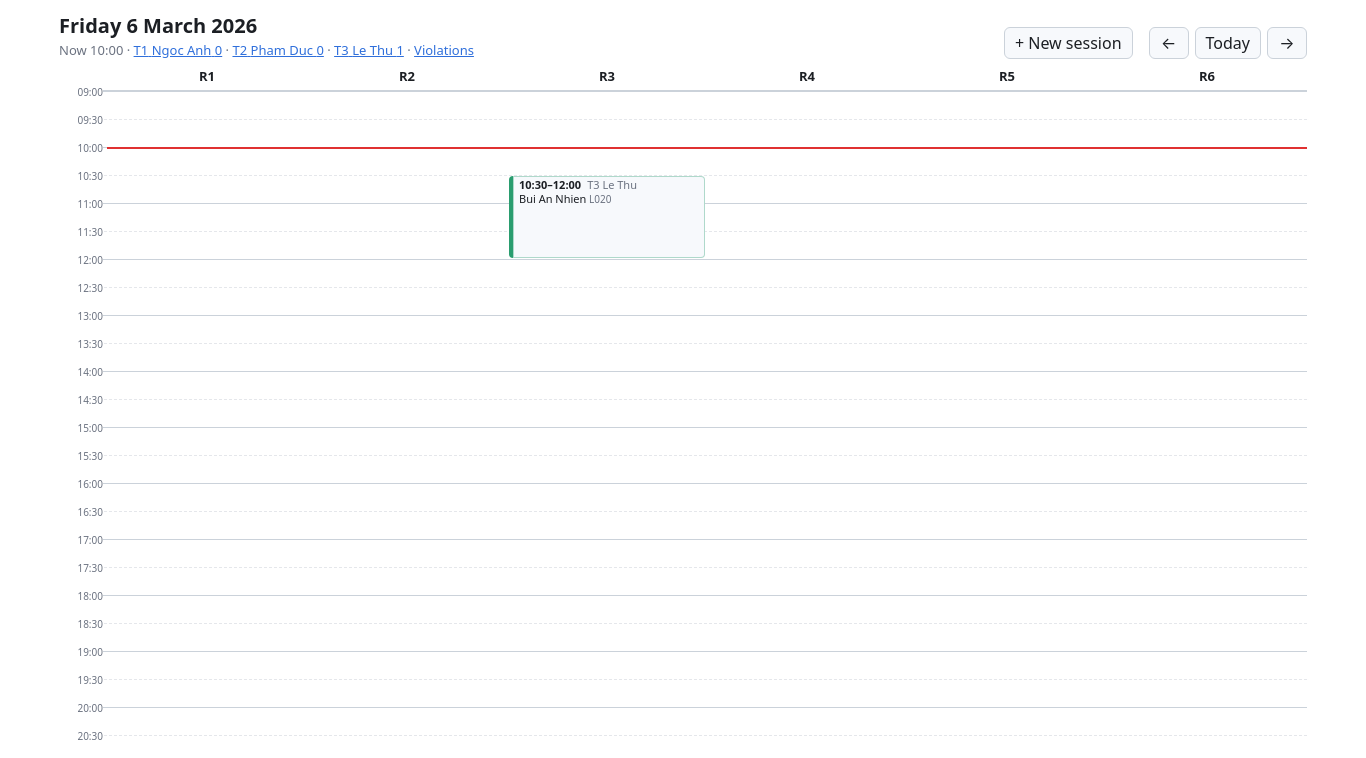
Test: DayPage › after a cancel, reads the day again and shows what the cancel did
The width and height of the screenshot is (1366, 758).
Click the button "10:30–12:00": (550, 185) [519,178,581,192]
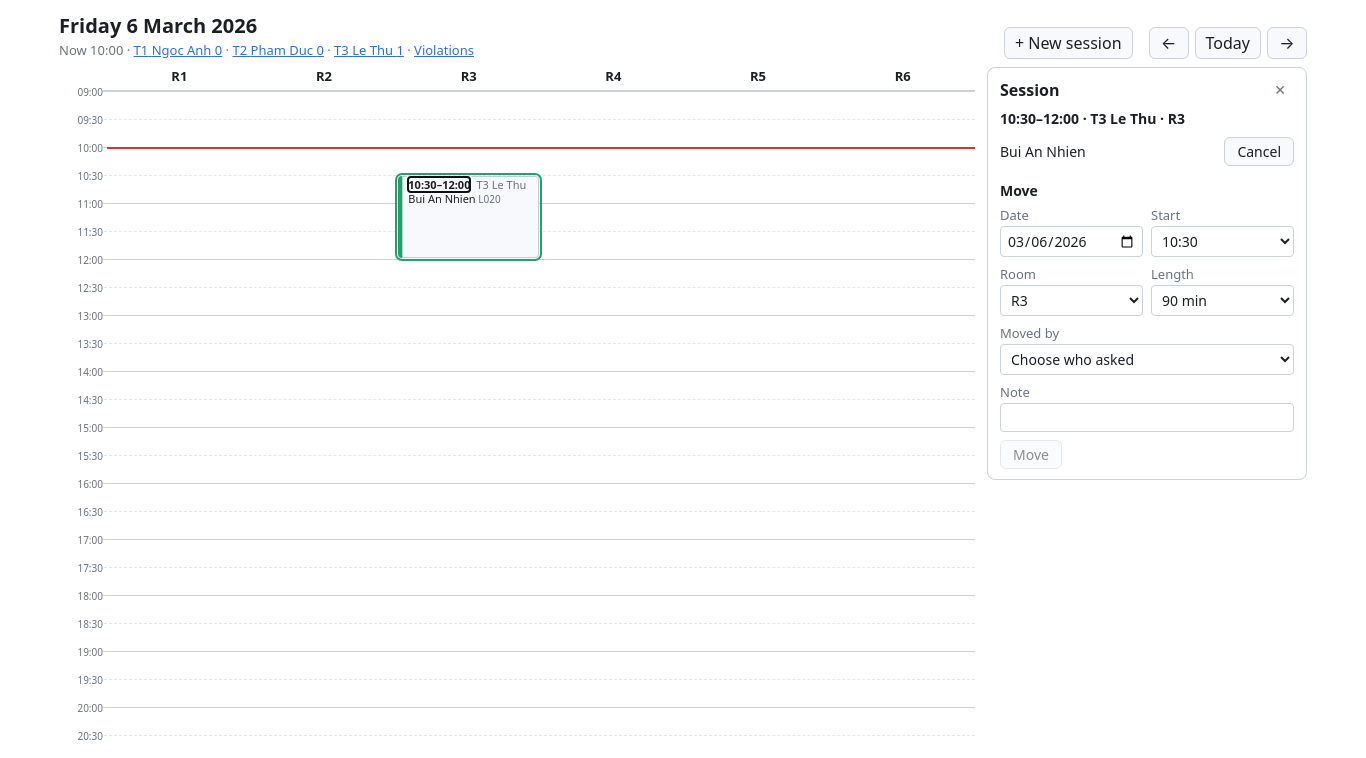
Click the button with aria-label "Cancel Bui An Nhien": (1259, 152) [1224,137,1294,166]
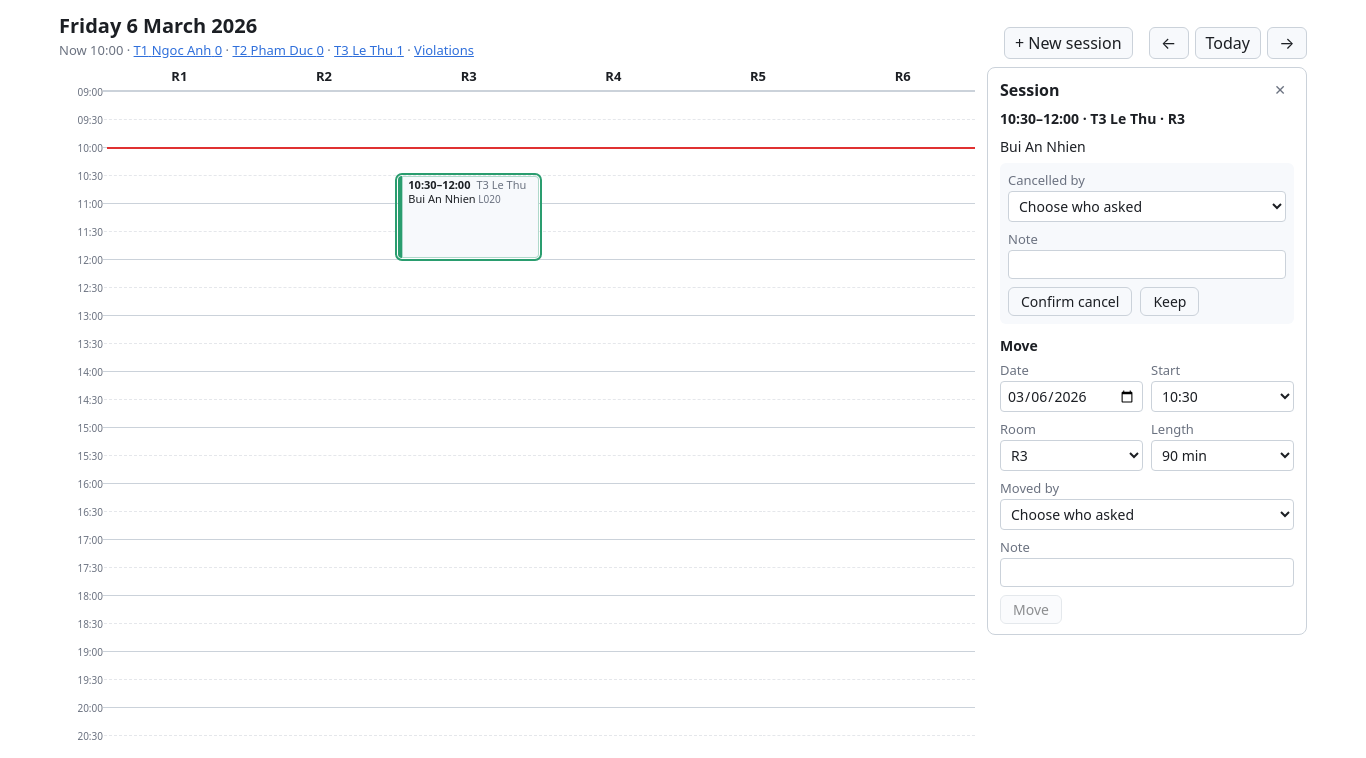
Select "family" in the dropdown labelled "Cancelled by": (1147, 206) [1008,191,1286,222]
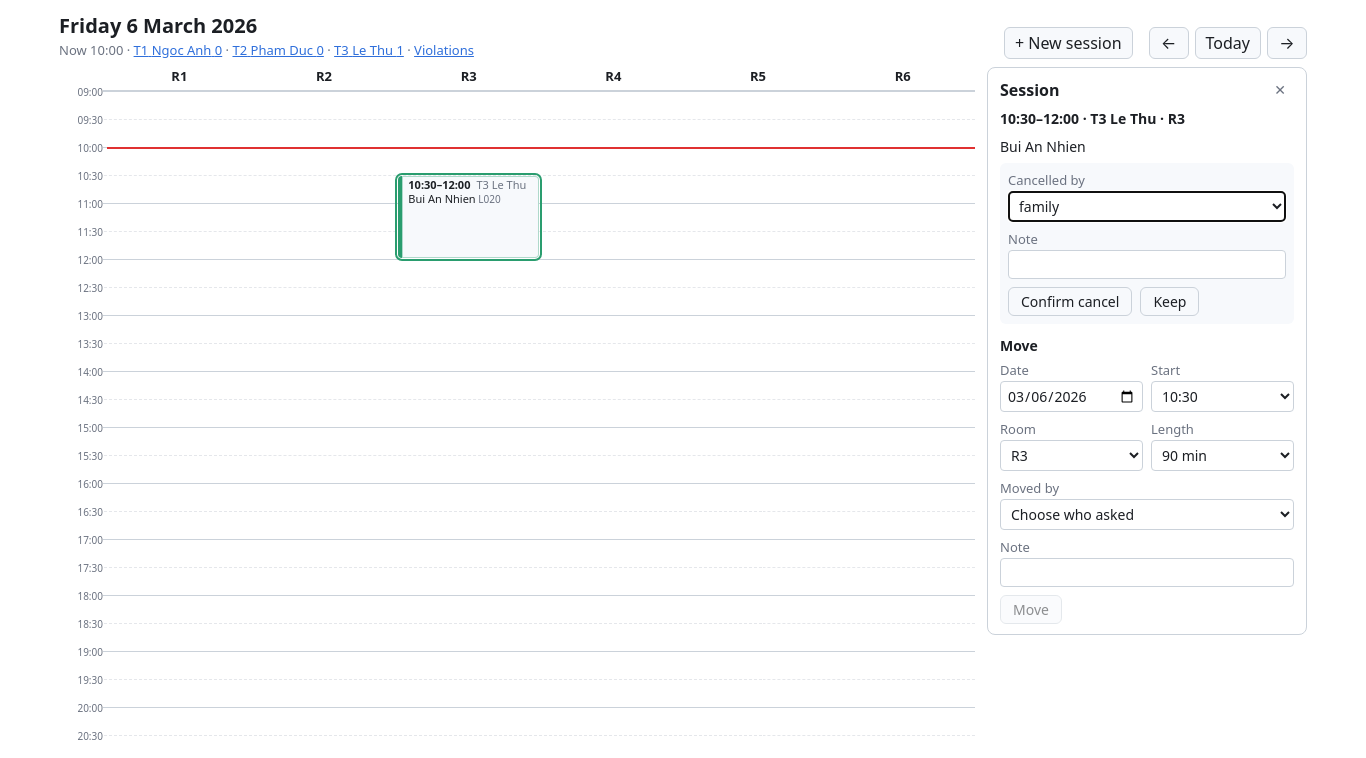
Click the button "Confirm cancel": (1070, 302) [1008,287,1132,316]
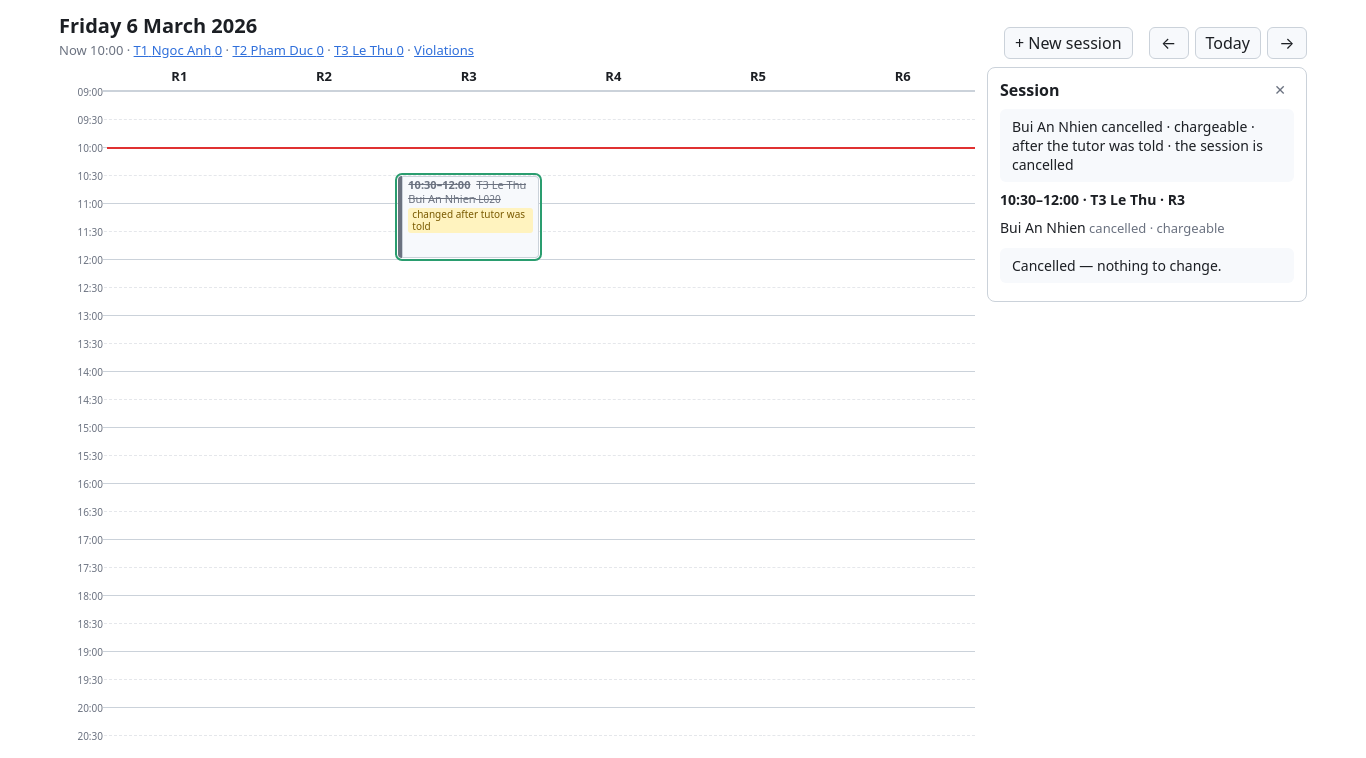
expect the text "Bui An Nhien cancelled · chargeable · after the tutor was told · the session is cancelled" is shown: met, box [1012,117,1263,174]
